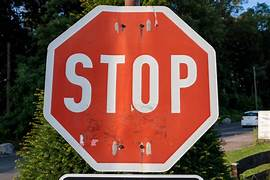stop: (41, 4, 218, 173)
